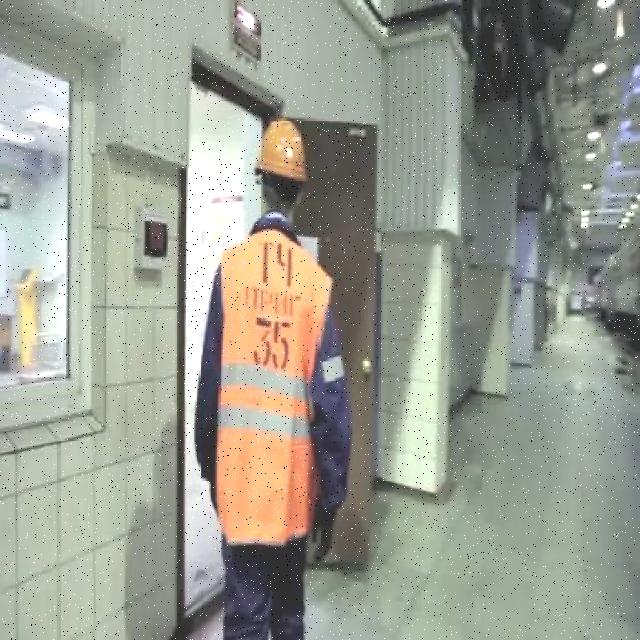Helmet: (254, 116, 308, 184)
Mask: (216, 227, 336, 547)
